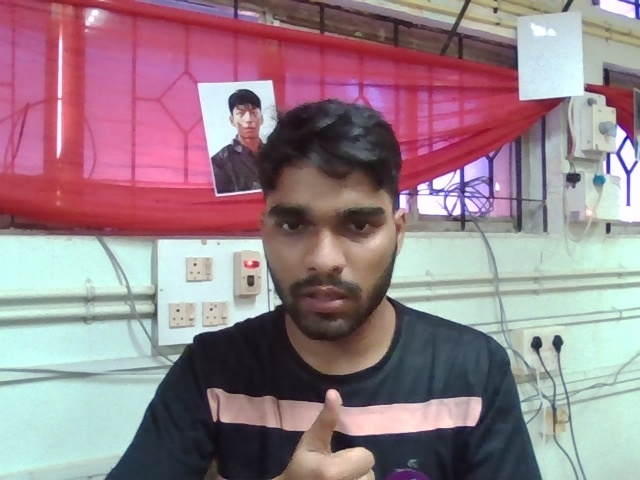help: (278, 372, 384, 480)
